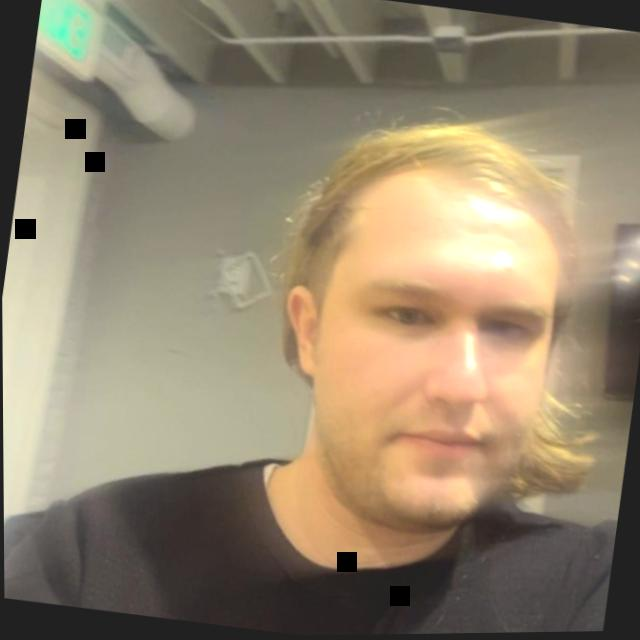NO-Mask: (243, 77, 611, 600)
